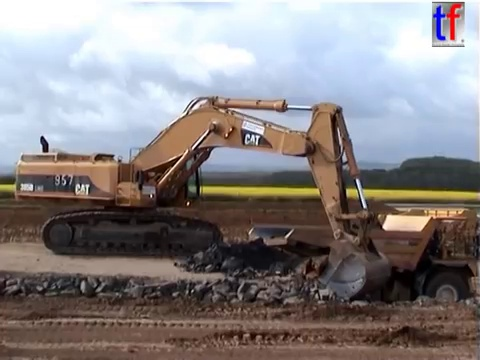excavator: (12, 93, 395, 308)
truck: (246, 204, 480, 324)
